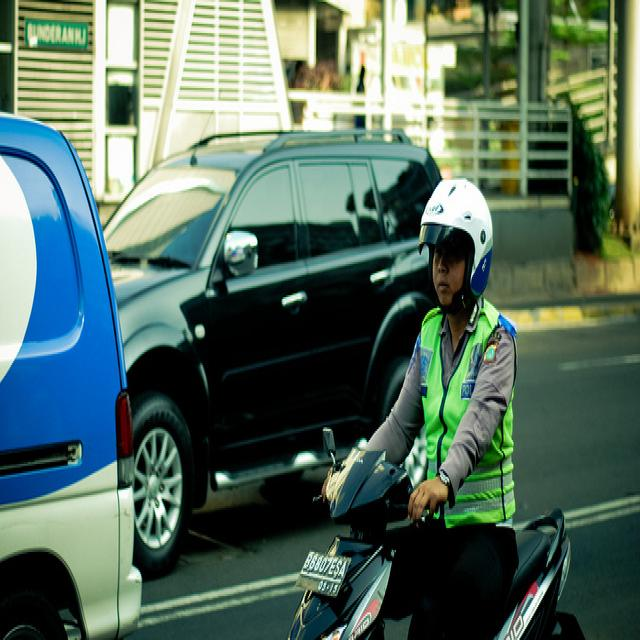motor: (287, 430, 572, 640)
